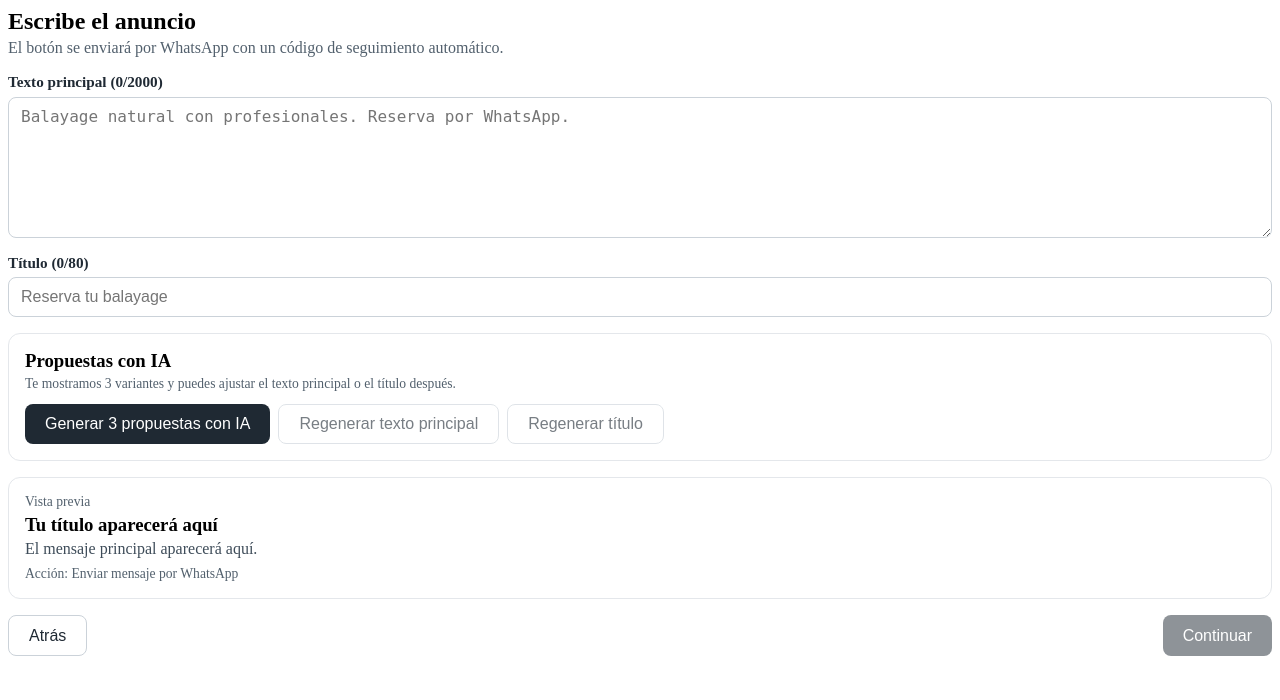
Test: CopyStep › deshabilita el botón de regeneración tras usarlo y muestra el texto Regeneración utilizada
This screenshot has width=1280, height=700.
Click the button "Generar 3 propuestas con IA" at (148, 424), box [25,404,270,444]
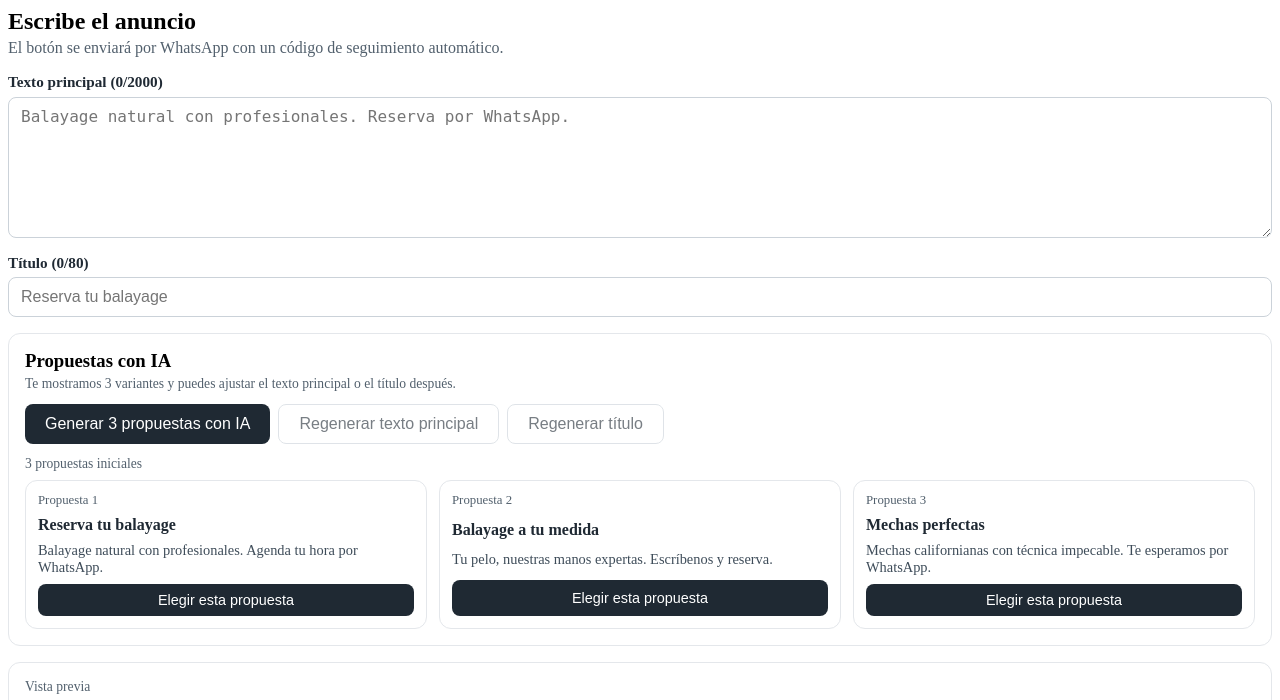
Check: the number of buttons "Elegir esta propuesta" is 3
Click the button "Elegir esta propuesta" below "Reserva tu balayage" at (226, 600), box [38,584,414,616]
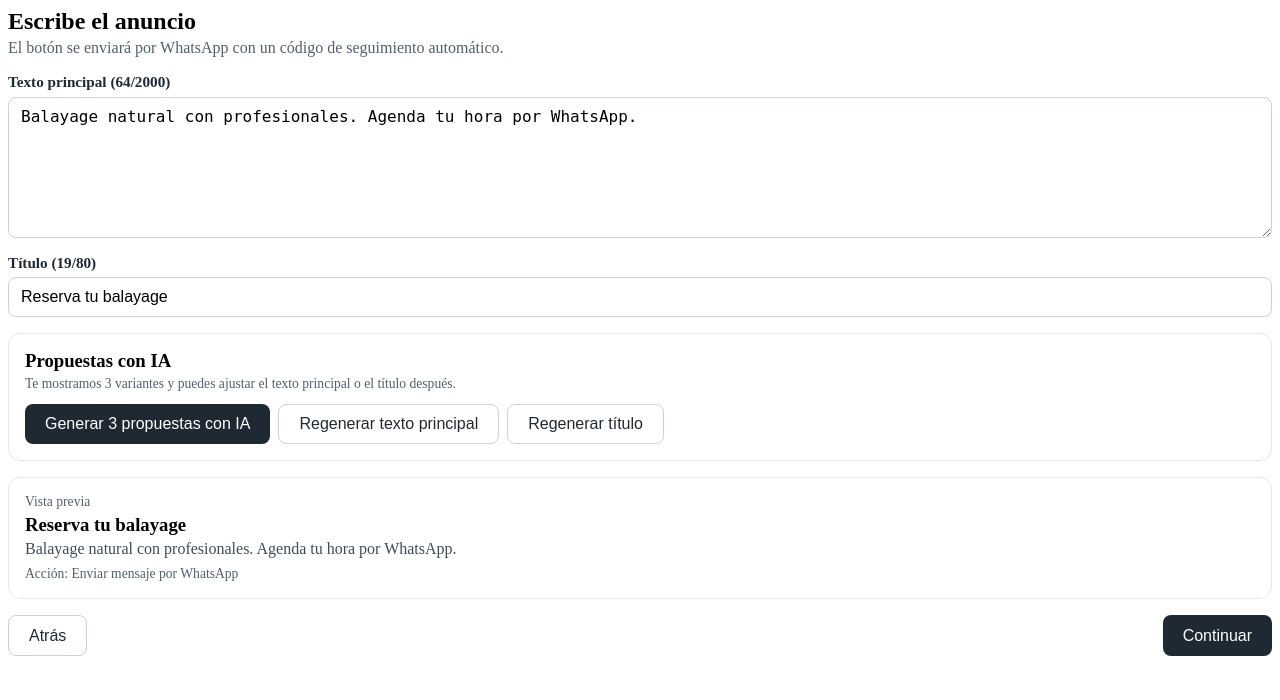
Click the button "Regenerar texto principal" at (389, 424), box [278,404,499,444]
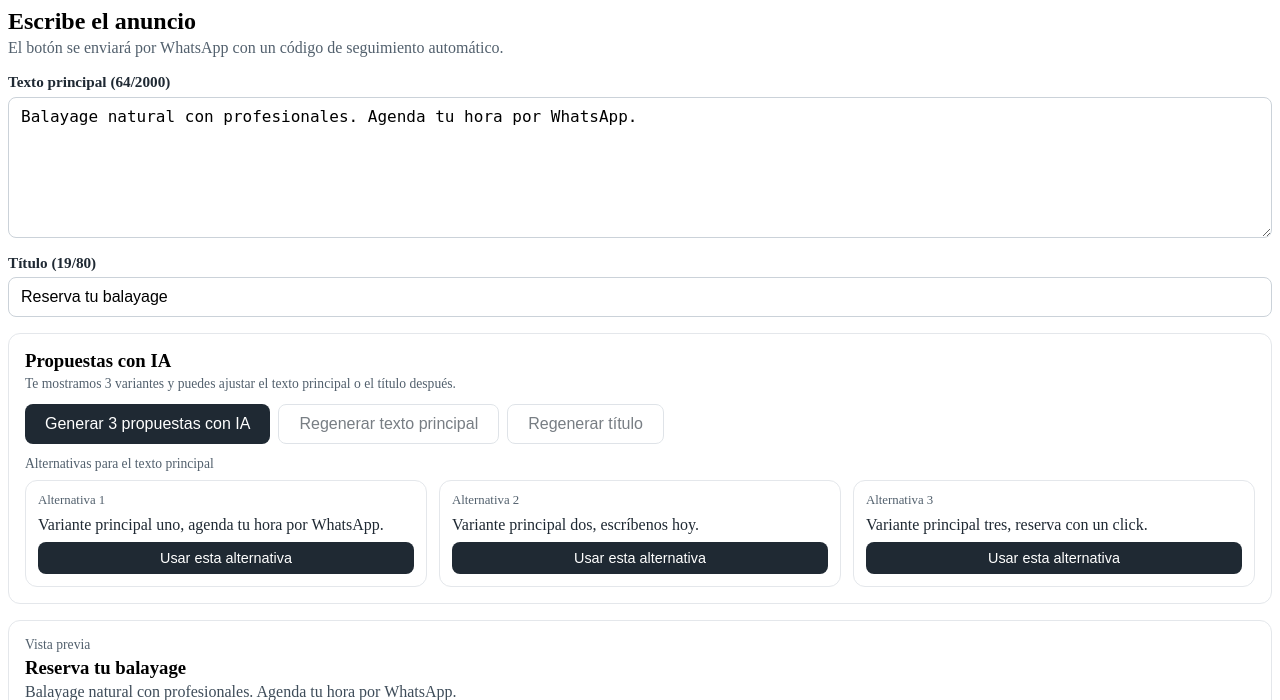
Check: the number of buttons "Usar esta alternativa" is 3
Click the 1st button "Usar esta alternativa" at (226, 558), box [38,542,414,574]
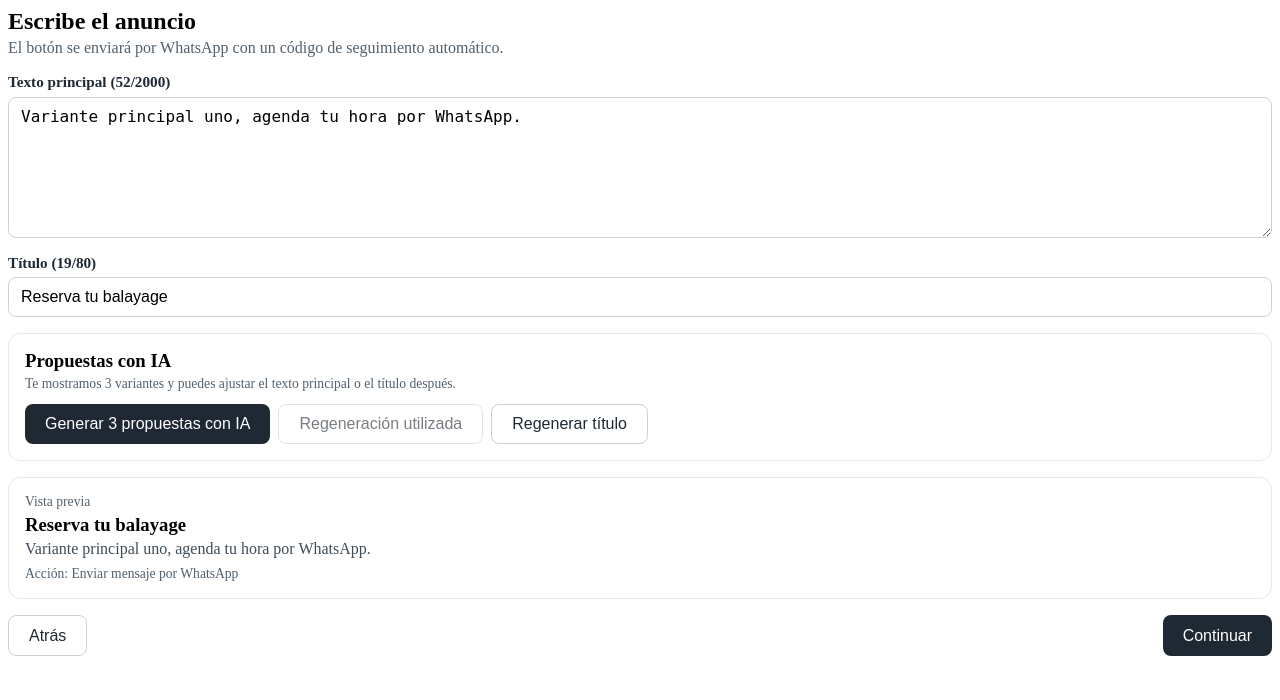
Check: the button "Regeneración utilizada" is disabled, box [278,404,483,444]
Check: the button "Regenerar título" is enabled, box [491,404,648,444]
